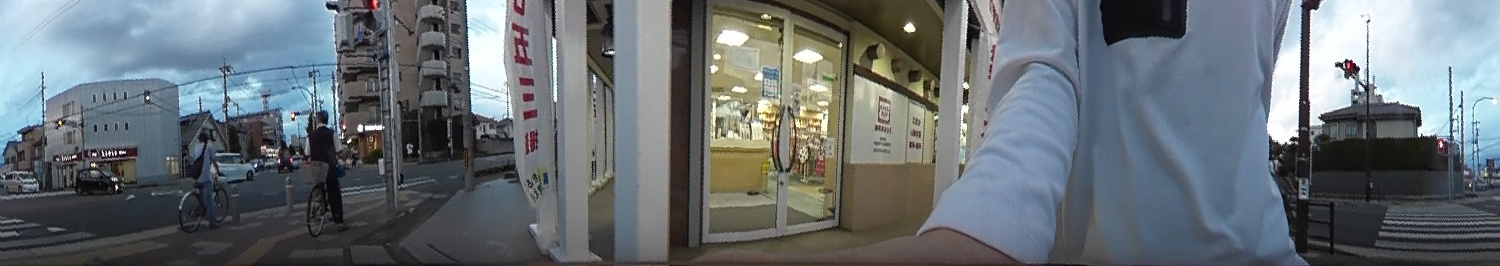difficult_person: (347, 143, 360, 167)
person: (304, 110, 346, 231), (188, 129, 221, 223)
